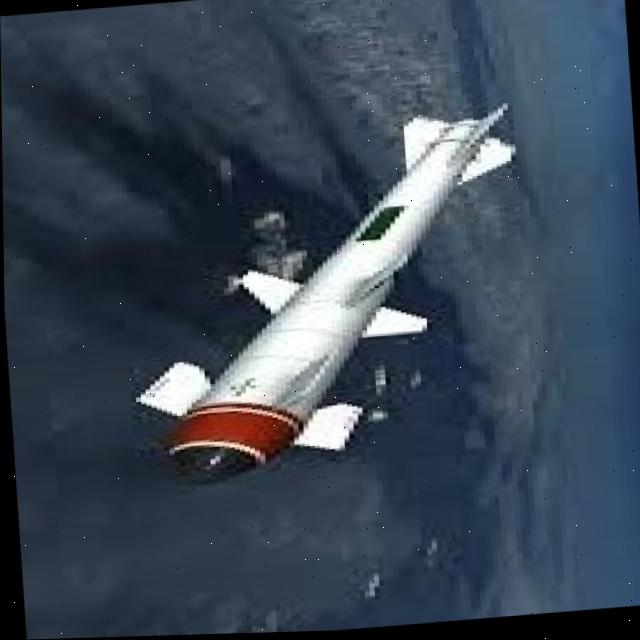missile: (122, 105, 536, 488)
